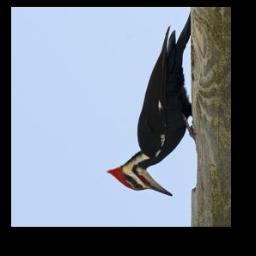Woodpecker: (104, 27, 194, 198)
